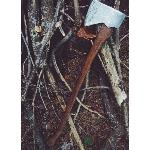Kapak: (55, 1, 123, 140)
